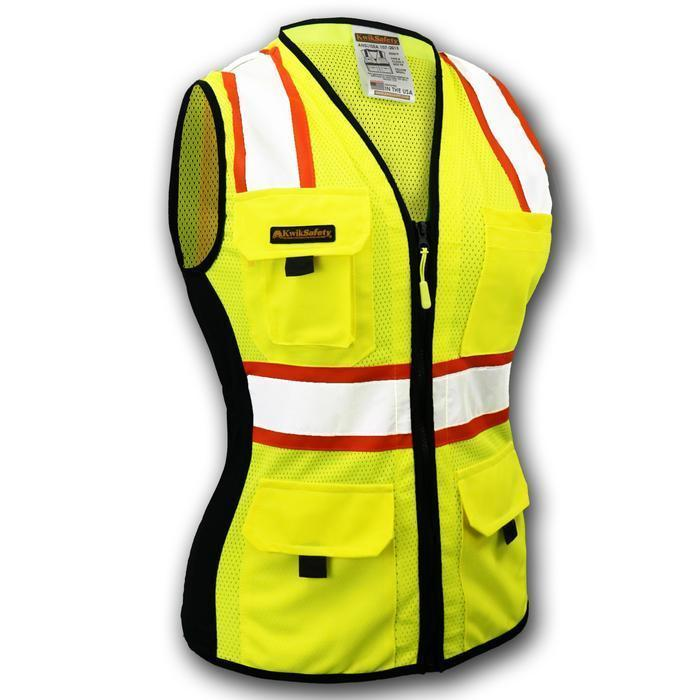vest: (169, 12, 555, 676)
